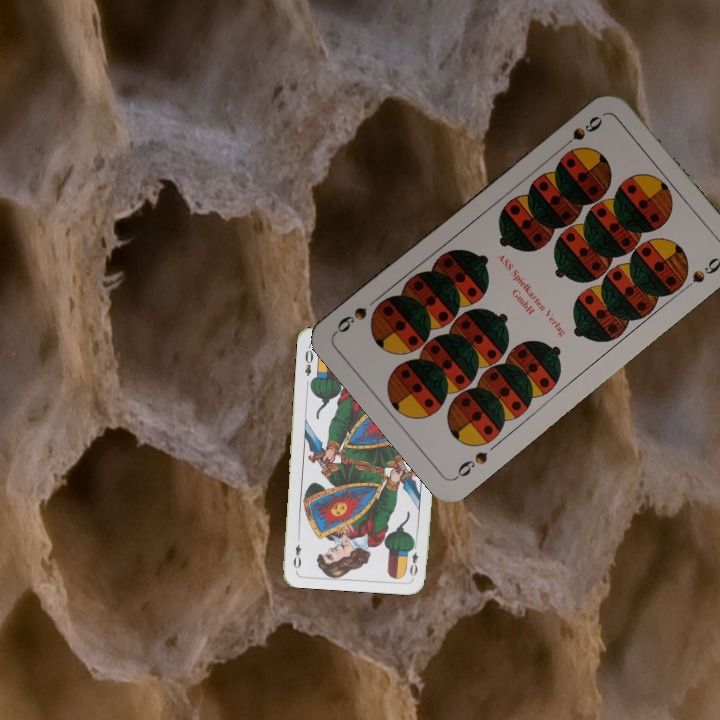EO: (406, 539, 421, 579), (300, 342, 316, 379)
S9: (556, 111, 605, 153), (451, 447, 491, 482)
